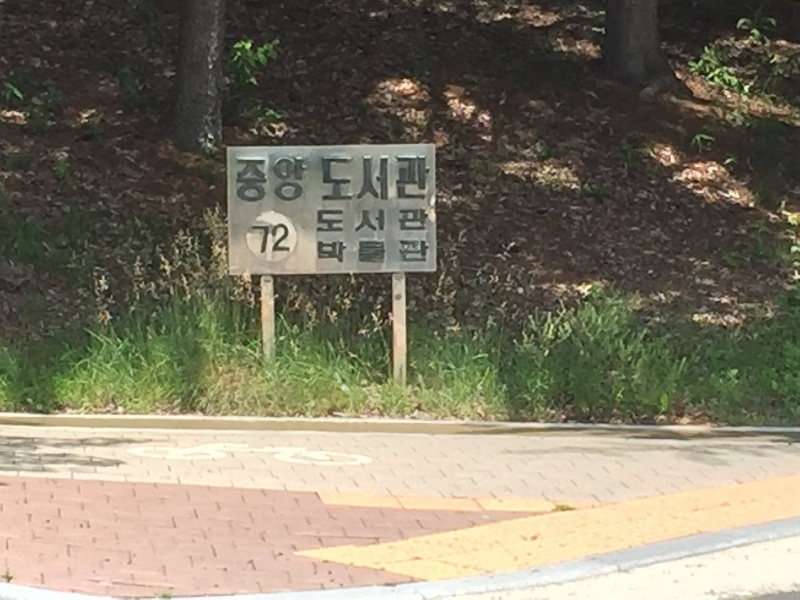text: (321, 155, 336, 203), (337, 155, 352, 203), (353, 155, 368, 203), (369, 155, 384, 203), (385, 155, 400, 203), (401, 155, 416, 203), (241, 156, 256, 202), (257, 156, 272, 202), (273, 156, 288, 202), (289, 156, 304, 202), (417, 155, 431, 203), (257, 223, 272, 254), (273, 223, 288, 254), (321, 208, 336, 234), (337, 208, 352, 234), (353, 208, 368, 234), (369, 208, 384, 234), (385, 208, 400, 234), (401, 208, 416, 234), (321, 240, 336, 264), (337, 240, 352, 264), (353, 240, 368, 264), (369, 240, 384, 264), (385, 240, 400, 264), (401, 240, 416, 264), (417, 240, 430, 264), (417, 208, 429, 234), (235, 156, 240, 202), (250, 223, 256, 254), (305, 156, 308, 202), (317, 208, 320, 234), (317, 240, 320, 264), (289, 223, 290, 254)
